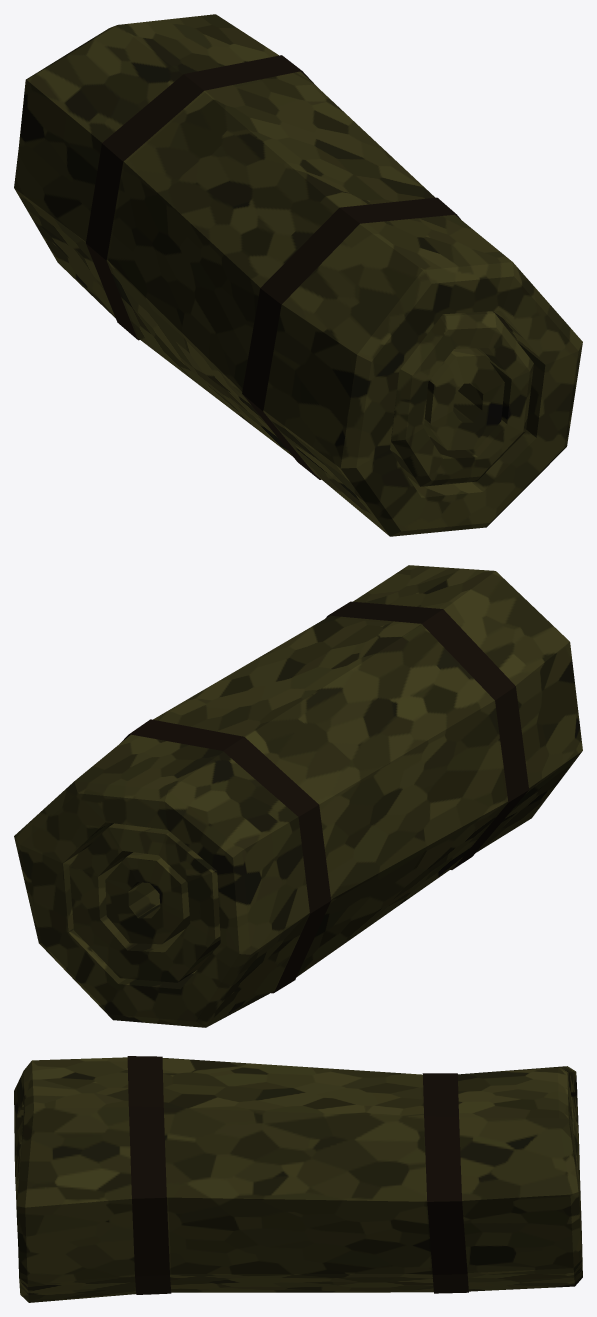
File: Sleeping_Bag.fbx
3 views of the same model, one above another, from view 1: azimuth 30°, elevation 25°; view 2: azimuth 150°, elevation 25°; view 3: azimuth 270°, elevation 25° (orthographic). The views are drawn at different scales.
Parts seen in each view (by area): view 1: Sleeping Bag; view 2: Sleeping Bag; view 3: Sleeping Bag.
Boxes of the visible parts, left/top/right/bottom form: Sleeping Bag: left=14, top=14, right=582, bottom=536; Sleeping Bag: left=14, top=565, right=582, bottom=1027; Sleeping Bag: left=14, top=1056, right=582, bottom=1302.
Bounding box in the file's own units: 17.04 × 15.92 × 37.11.
